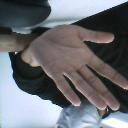hand: (27, 22, 128, 112)
